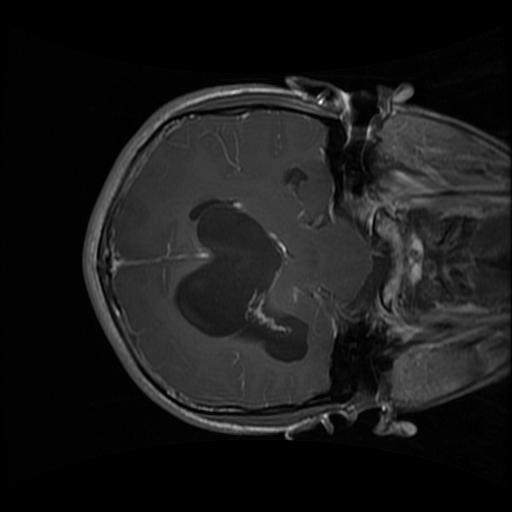glioma: (168, 194, 312, 366)
